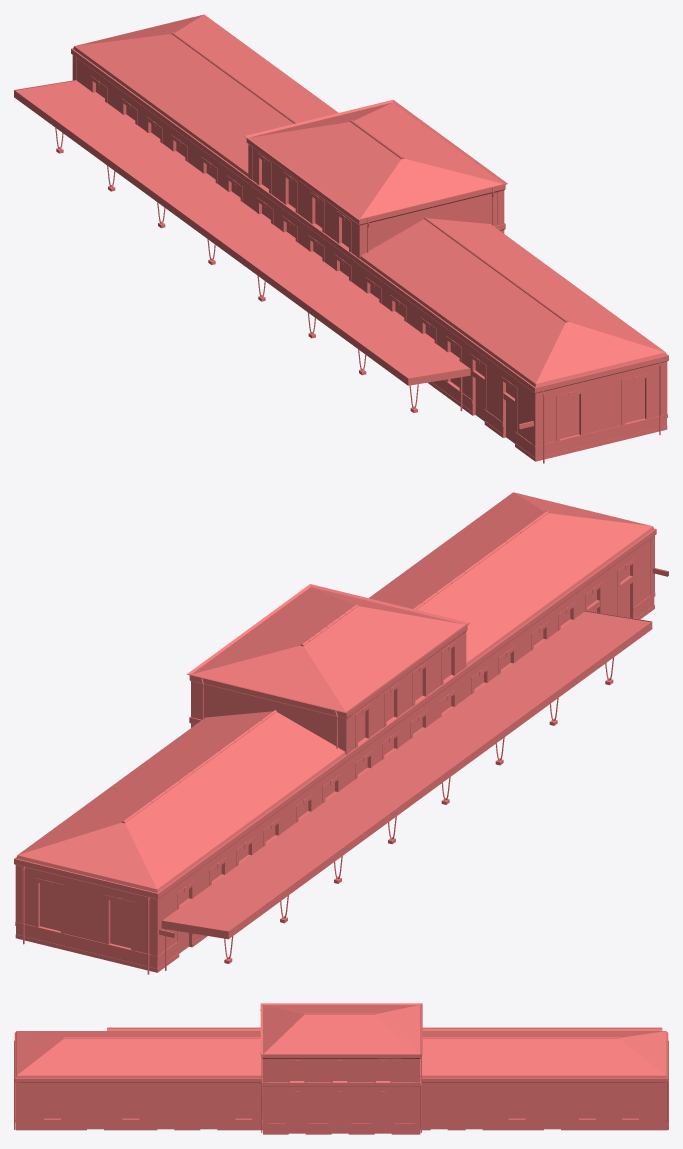
Rendered from GuingampAM_lod0.fbx.
3 renders of one model, top to bottom at view 1: azimuth 30°, elevation 25°; view 2: azimuth 150°, elevation 25°; view 3: azimuth 270°, elevation 25°, orthographic. The views are drawn at different scales.
Visible parts, largest first — view 1: GuingampAM_lod0; view 2: GuingampAM_lod0; view 3: GuingampAM_lod0.
Boxes of the visible parts, left/top/right/bottom form: GuingampAM_lod0: left=14, top=14, right=668, bottom=463; GuingampAM_lod0: left=14, top=492, right=668, bottom=974; GuingampAM_lod0: left=14, top=1003, right=668, bottom=1134.
Size of the model in its own units: 15.03 by 57.86 by 9.6.
